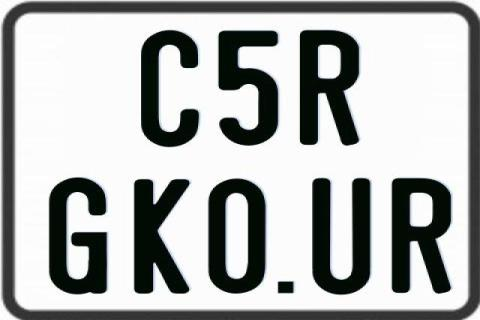0: (215, 31, 279, 146), (207, 176, 268, 291)
C: (138, 28, 199, 146)
G: (46, 176, 108, 298)
K: (134, 179, 194, 295)
R: (297, 28, 357, 147), (392, 177, 452, 293)
U: (312, 177, 374, 296)
